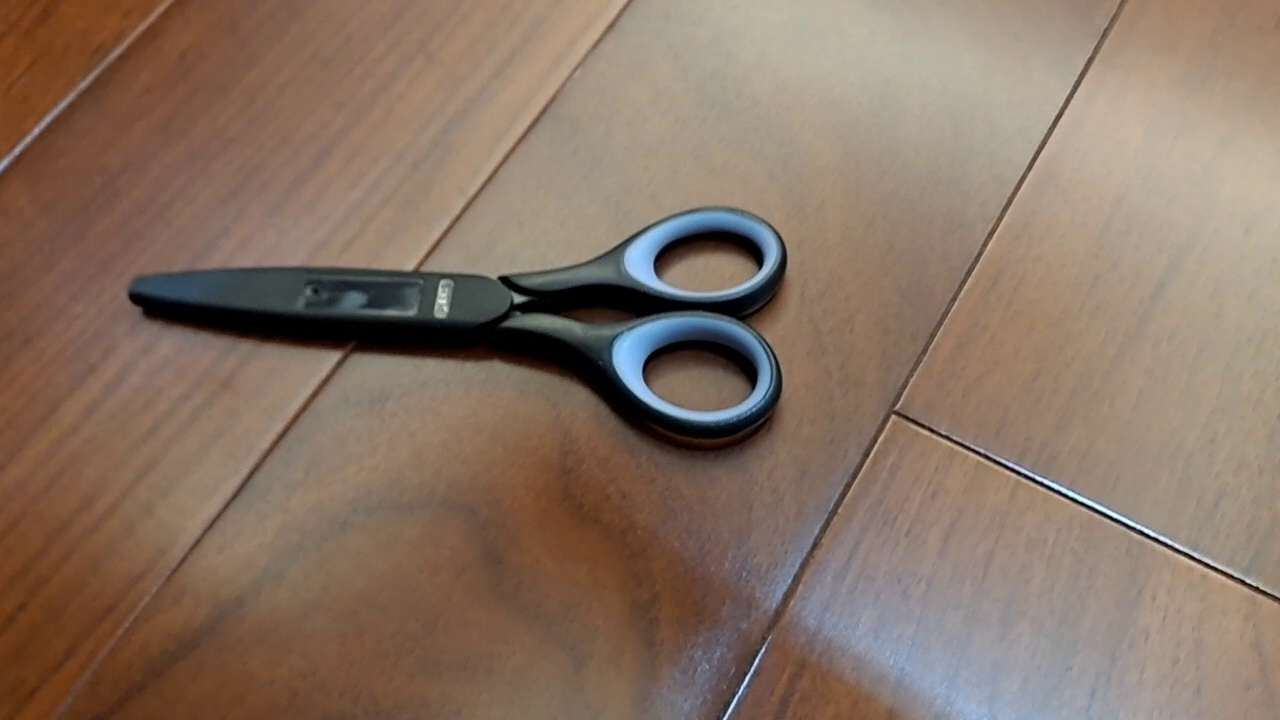scissors: (125, 204, 788, 442)
